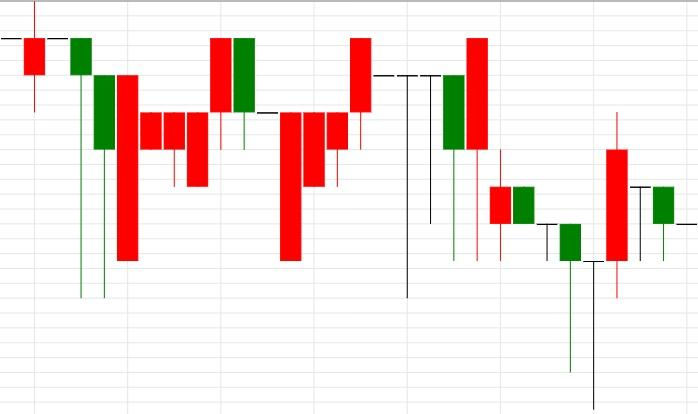bearish_engulfing_fall: (93, 37, 256, 298)
hammer_rise: (0, 0, 116, 299)
morning_star_rise: (466, 37, 629, 410)
